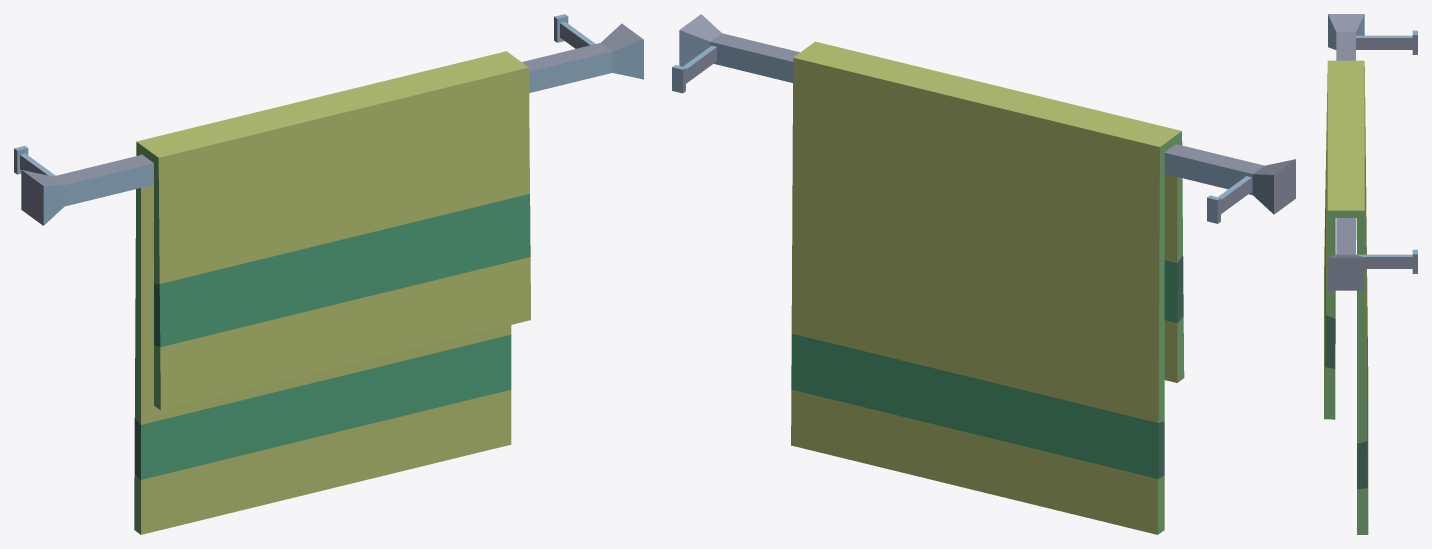
Rendered from Towel Rack.fbx.
The picture shows the model from 3 angles, left to right: view 1: azimuth 30°, elevation 25°; view 2: azimuth 150°, elevation 25°; view 3: azimuth 270°, elevation 25°; orthographic projection. The views are drawn at different scales.
Visible parts, largest first — view 1: Towel Rack; view 2: Towel Rack; view 3: Towel Rack.
Boxes of the visible parts, <box> form: Towel Rack: <box>14,14,643,534</box>; Towel Rack: <box>672,14,1295,534</box>; Towel Rack: <box>1324,14,1417,534</box>.
Size of the model in its own units: 153 by 95.02 by 24.9.
